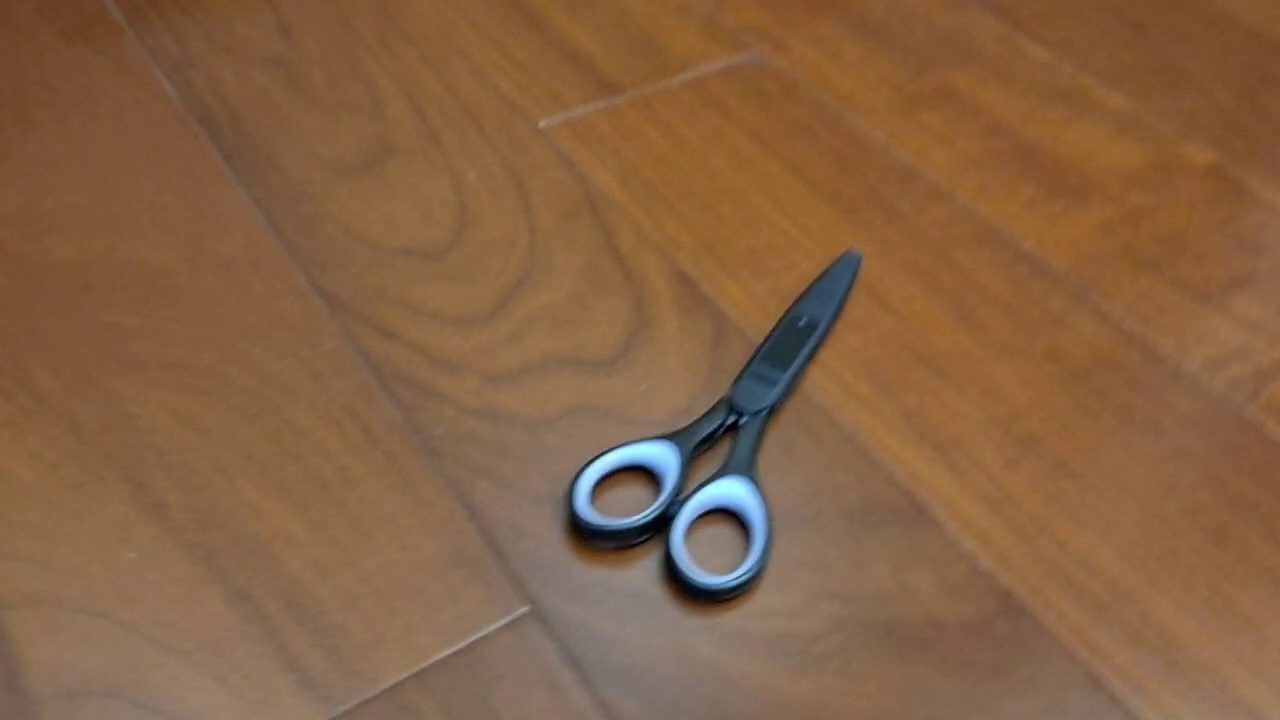scissors: (564, 246, 864, 608)
